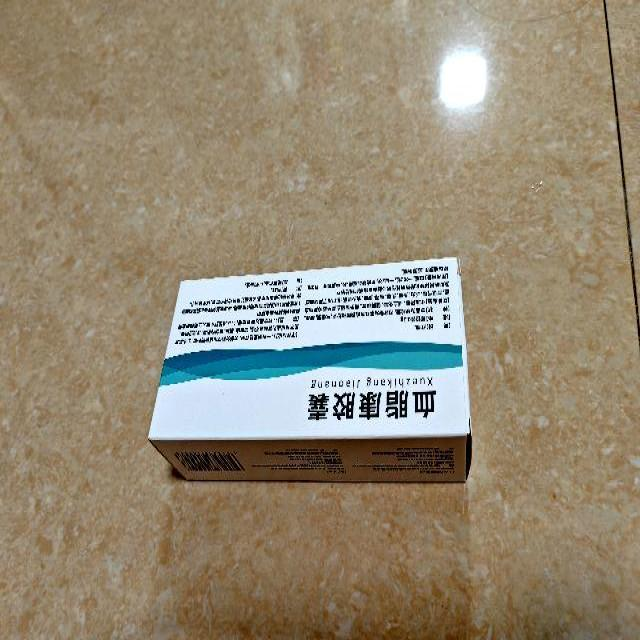box: (148, 256, 474, 484)
